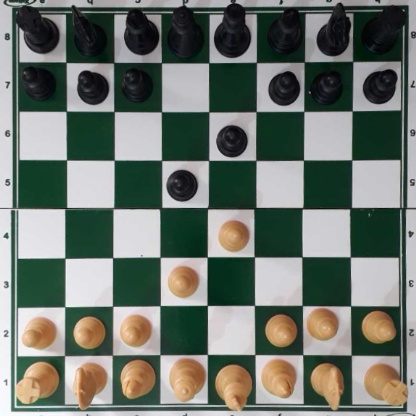black-bishop: (266, 6, 303, 53), (123, 7, 159, 54)
black-king: (215, 0, 251, 59)
black-knight: (71, 4, 107, 57), (317, 2, 350, 57)
black-pawn: (362, 67, 397, 104), (22, 65, 56, 100), (216, 121, 249, 156), (76, 68, 108, 104), (311, 68, 343, 103), (268, 71, 299, 105), (121, 67, 152, 101), (166, 168, 197, 201)
black-queen: (167, 6, 205, 56)
black-rook: (15, 6, 61, 52), (362, 6, 404, 54)
white-bishop: (261, 358, 297, 400), (120, 358, 154, 399)
white-king: (217, 362, 249, 412)
white-knight: (310, 361, 343, 411), (74, 361, 107, 410)
white-pawn: (19, 315, 58, 349), (166, 263, 200, 298), (118, 312, 152, 347), (216, 218, 250, 252), (361, 310, 396, 343), (264, 313, 297, 346), (307, 307, 339, 341), (73, 315, 105, 348)
white-queen: (166, 356, 208, 401)
white-rook: (15, 360, 60, 403), (362, 362, 407, 405)
